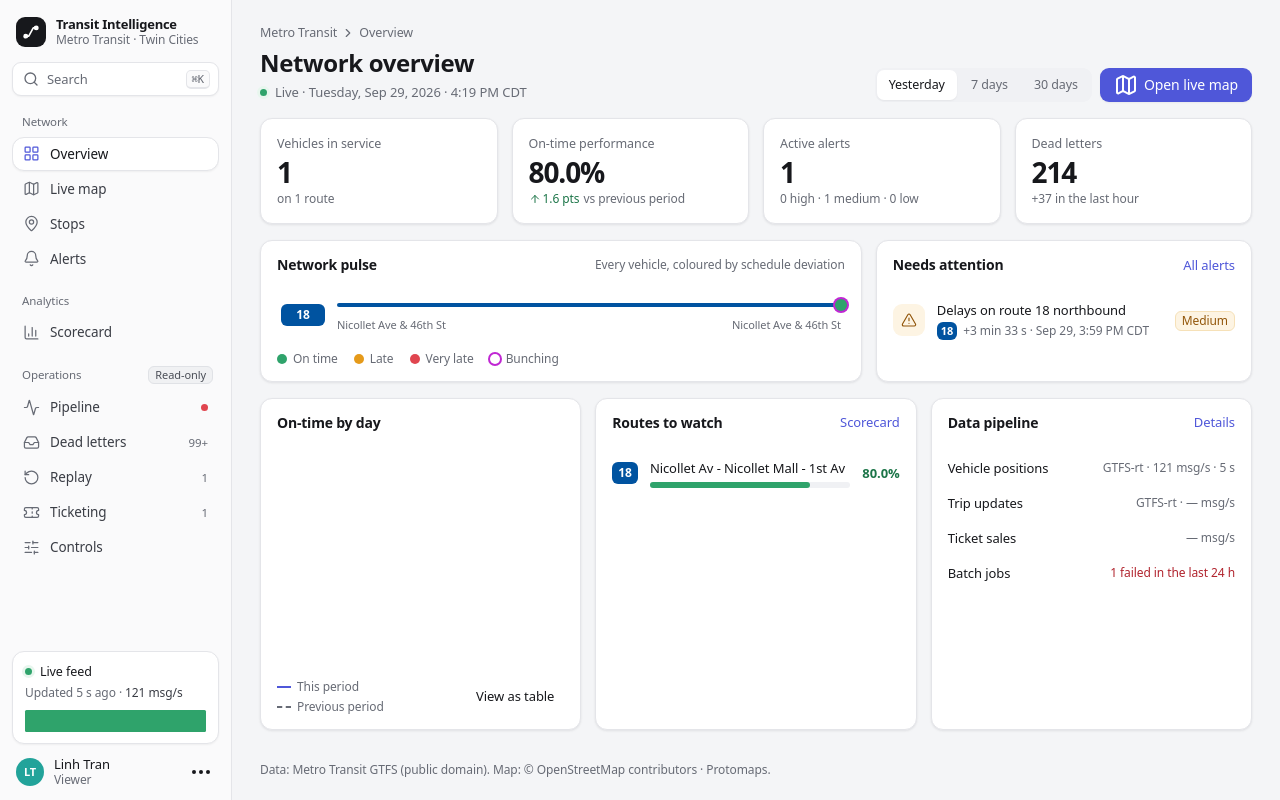
Scenario: Overview page › switches the period and offers the chart as a table
Click the radio button labelled "30 days" at [1056, 85], box [1022,70,1090,100]
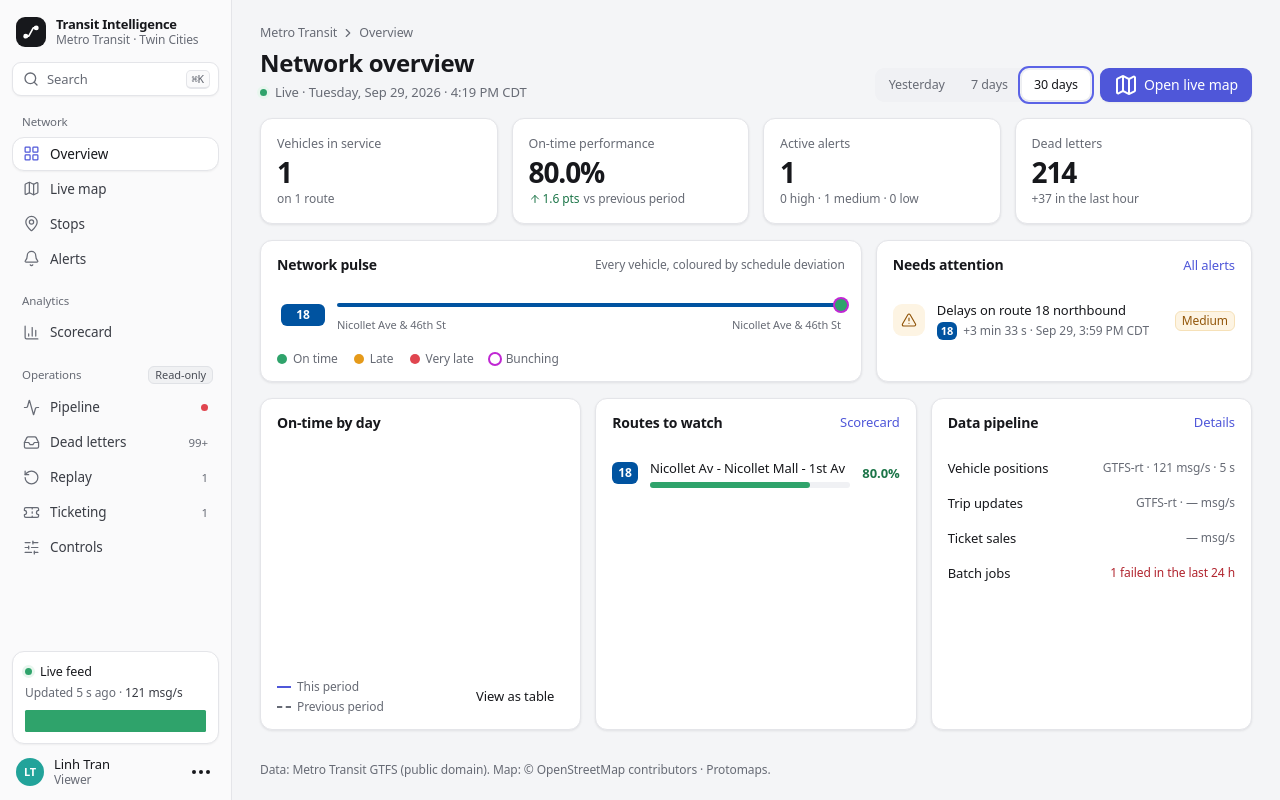
Click the button "View as table" at [515, 697], box [466,683,564,711]
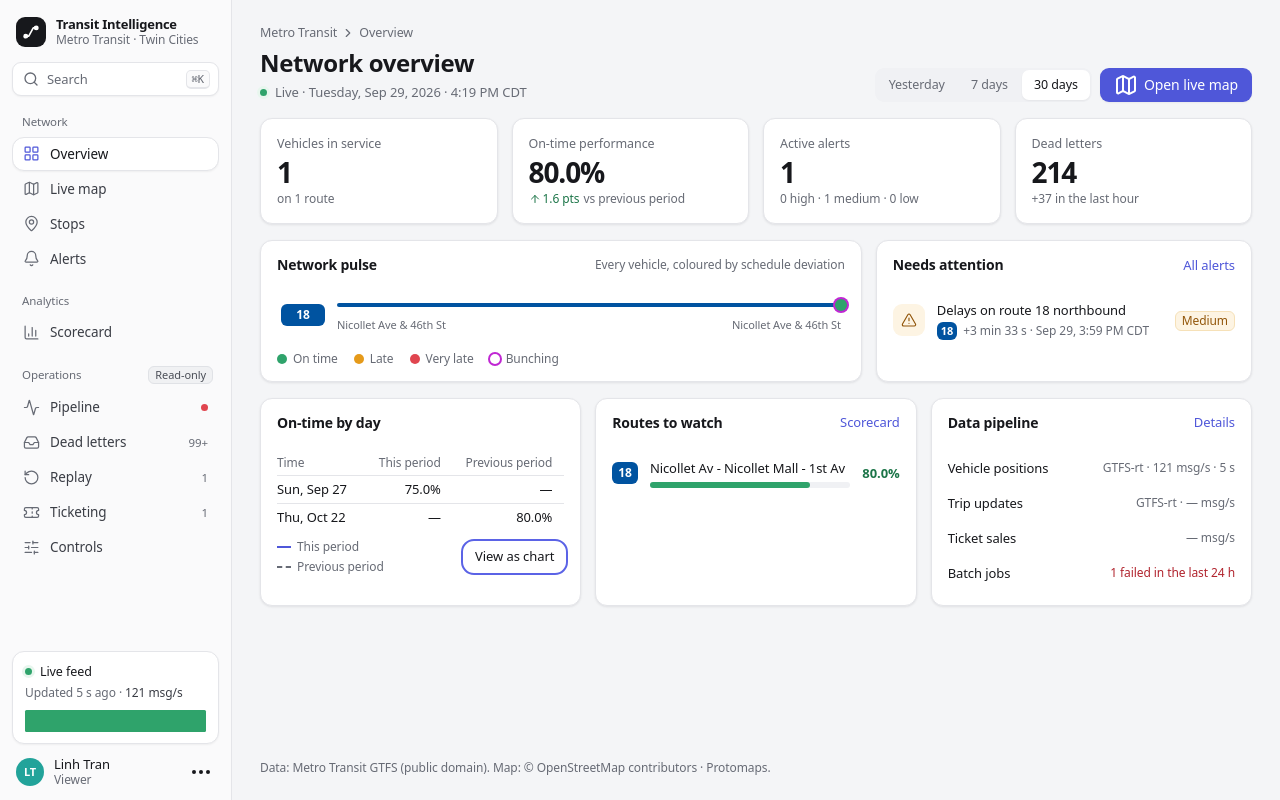
Check: the table shows "75.0%", box [405,480,441,498]
